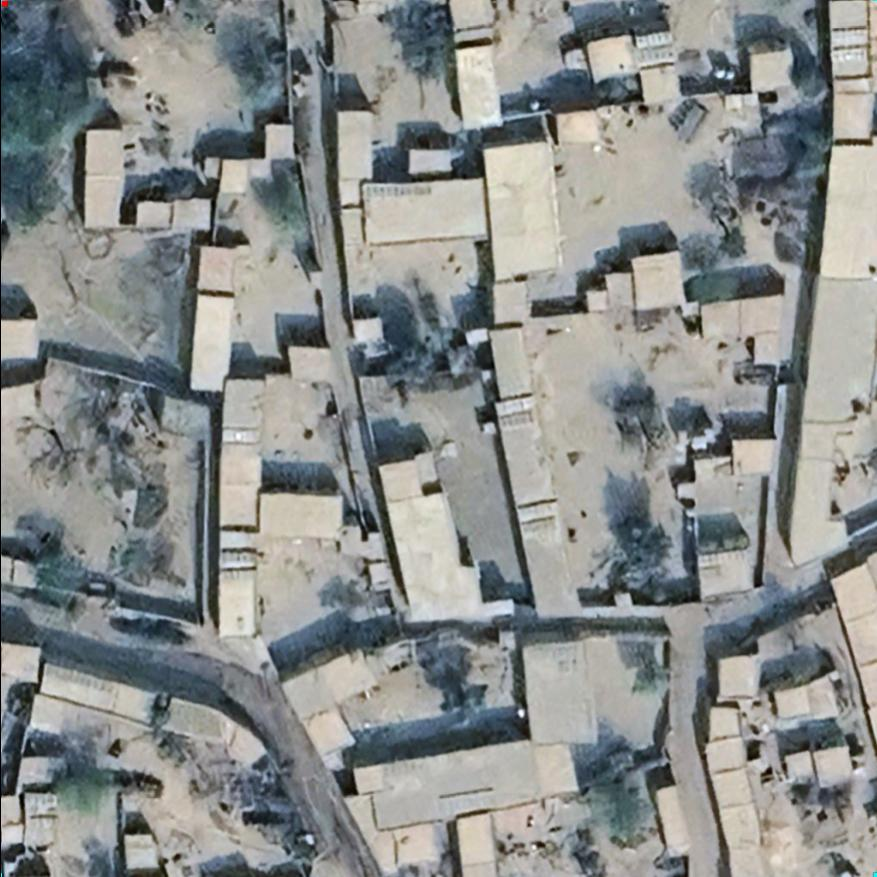Solarpanel: (668, 100, 713, 150), (490, 394, 534, 434), (360, 182, 435, 200)
